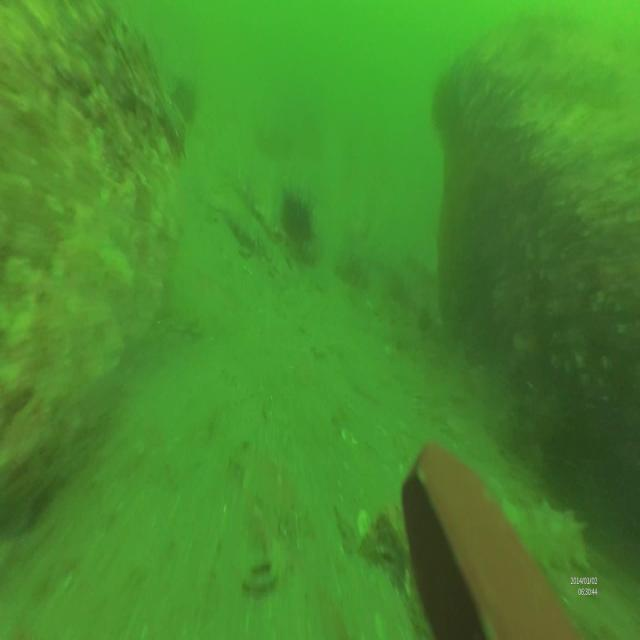echinus: (276, 184, 318, 247)
holothurian: (484, 510, 592, 566)
